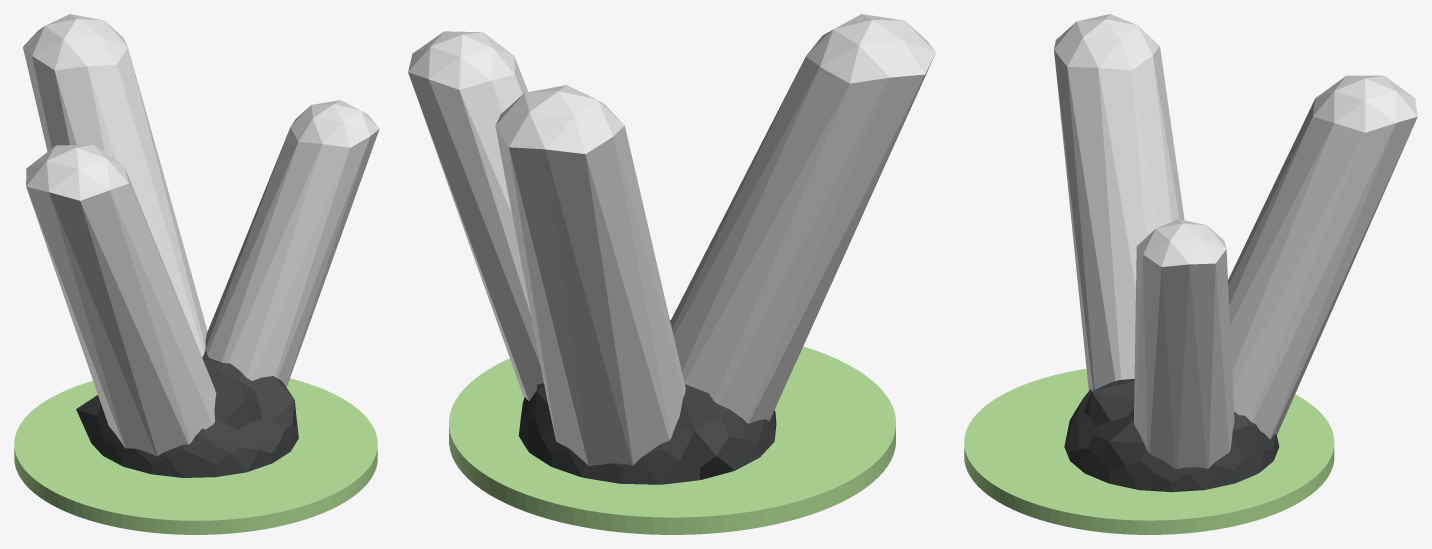
File: DefaultMineral1.fbx
3 views of the same model, side by side, from view 1: azimuth 30°, elevation 25°; view 2: azimuth 150°, elevation 25°; view 3: azimuth 270°, elevation 25° (orthographic). The views are drawn at different scales.
Parts seen in each view (by area): view 1: Icosphere.002, Cylinder, Icosphere.001, Icosphere, Icosphere.003; view 2: Icosphere.002, Icosphere, Cylinder, Icosphere.001, Icosphere.003; view 3: Icosphere, Icosphere.002, Cylinder, Icosphere.001, Icosphere.003.
Part boxes in pixels (box(x1,y1,x2,y2)): Icosphere.002: box(26, 144, 216, 456); Cylinder: box(14, 378, 377, 534); Icosphere.001: box(205, 100, 379, 386); Icosphere: box(23, 14, 207, 357); Icosphere.003: box(76, 339, 298, 477); Icosphere.002: box(670, 14, 935, 423); Icosphere: box(495, 85, 685, 466); Cylinder: box(449, 346, 895, 534); Icosphere.001: box(408, 31, 543, 400); Icosphere.003: box(518, 320, 776, 484); Icosphere: box(1228, 75, 1417, 439); Icosphere.002: box(1054, 14, 1184, 390); Cylinder: box(964, 368, 1334, 534); Icosphere.001: box(1134, 219, 1234, 468); Icosphere.003: box(1064, 378, 1279, 492).
Size of the model in its own units: 83.65 by 76.9 by 85.08.
